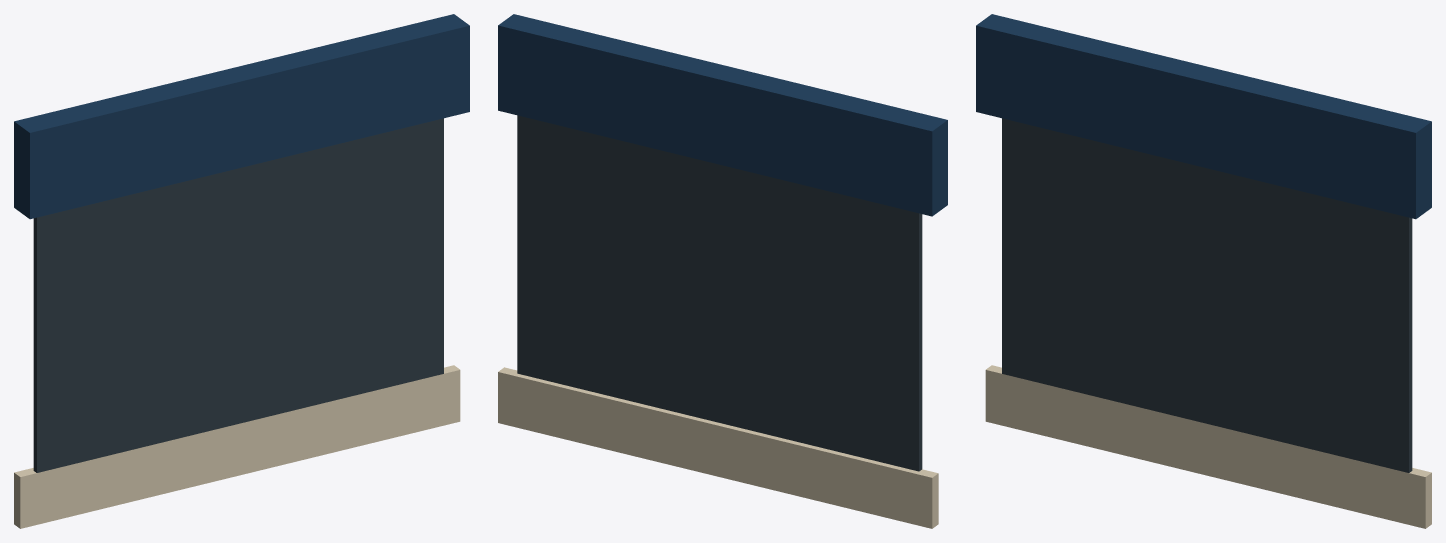
Rendered from corner-bay.glb.
3 renders of one model, left to right at view 1: azimuth 30°, elevation 25°; view 2: azimuth 150°, elevation 25°; view 3: azimuth 330°, elevation 25°, orthographic.
Parts seen in each view (by area): view 1: corner-bay; view 2: corner-bay; view 3: corner-bay.
Part boxes in pixels (x1,y1,x2,y2): corner-bay: (14, 14, 469, 528); corner-bay: (498, 14, 947, 528); corner-bay: (976, 14, 1431, 528).
Size of the model in its own units: 4 by 3.5 by 0.25.
